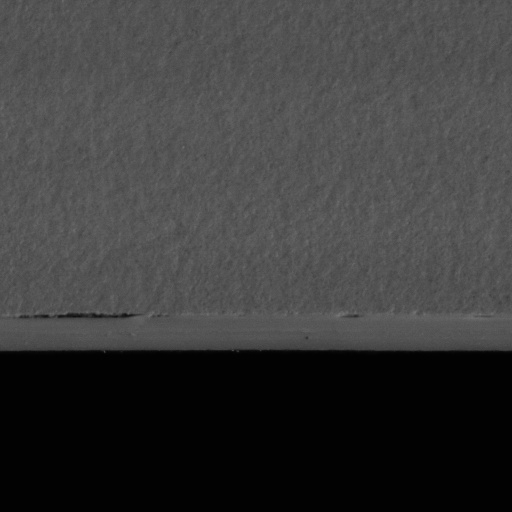jiaofeng: (14, 311, 145, 331)
